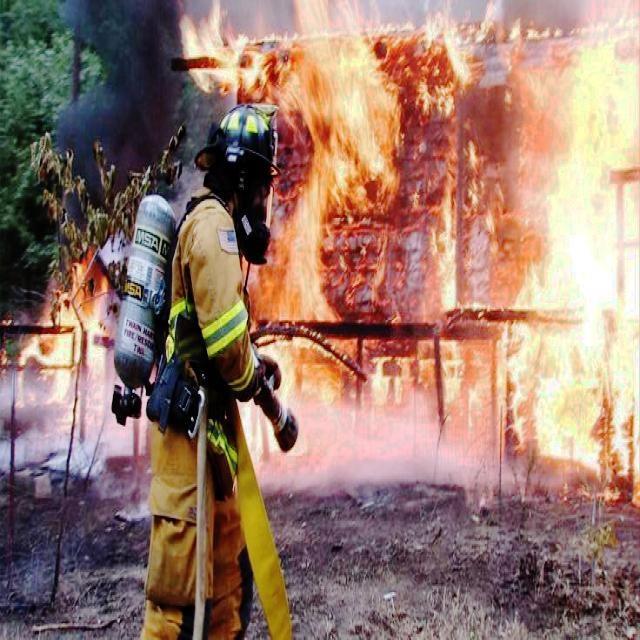api: (491, 1, 640, 480), (287, 1, 413, 207), (237, 157, 353, 343), (22, 243, 108, 431), (171, 1, 277, 108), (232, 329, 313, 458), (434, 186, 465, 313)
